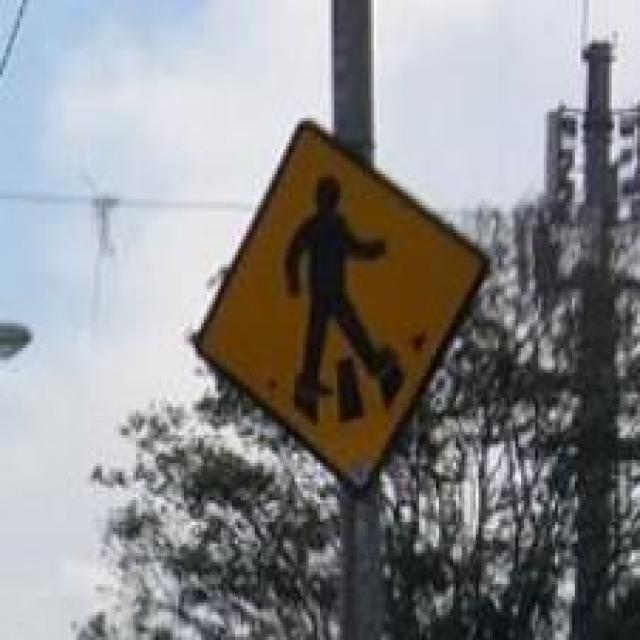traffic sign: (195, 121, 490, 482)
